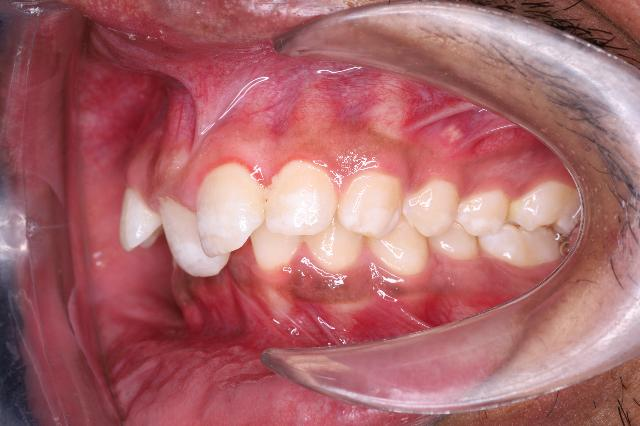molar class III 1/4: (478, 172, 586, 271)
